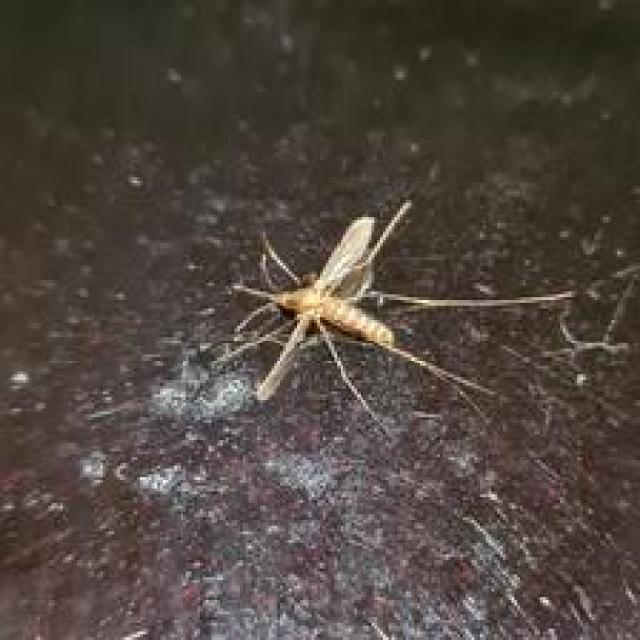Culex: (206, 197, 577, 432)
